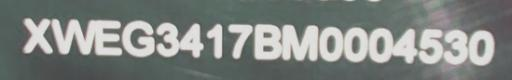letter: (50, 16, 96, 57), (280, 19, 320, 61), (120, 19, 156, 57), (20, 16, 54, 54), (92, 16, 124, 56), (252, 20, 282, 60), (178, 18, 206, 58), (226, 20, 254, 60), (318, 21, 344, 62), (416, 25, 444, 63), (392, 24, 418, 64), (443, 25, 469, 65), (468, 28, 496, 64), (154, 20, 180, 58), (368, 25, 394, 63), (342, 24, 368, 61), (205, 20, 225, 60)
